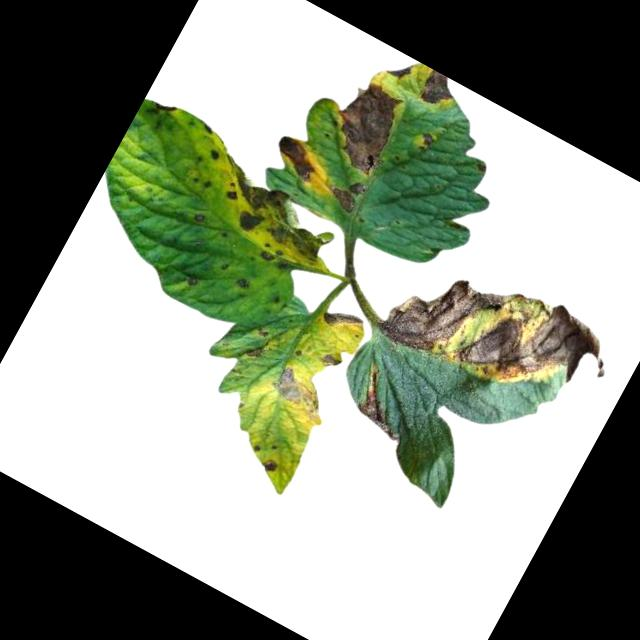Early_blight: (376, 233, 624, 438), (213, 166, 343, 270), (317, 73, 411, 179), (345, 361, 428, 442), (269, 363, 336, 419), (267, 131, 325, 184), (416, 69, 459, 113), (328, 172, 370, 216), (320, 298, 365, 339), (385, 55, 415, 85), (317, 346, 344, 371), (257, 451, 282, 476), (243, 337, 267, 362), (416, 129, 439, 154), (153, 95, 179, 117), (259, 245, 279, 264), (235, 273, 255, 291), (207, 145, 224, 162), (191, 209, 209, 225)
